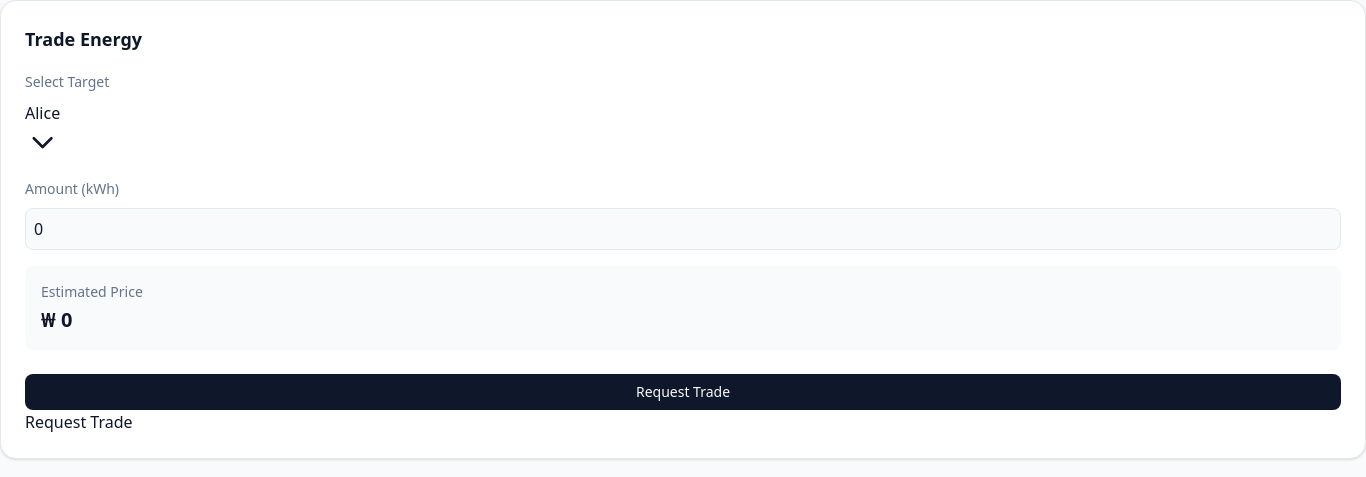
Test: TradeForm › updates the selected target from the dropdown
What coordinates should you click on to do the following:
click the button with aria-label "Select Target"
I would click on:
 (43, 131)
Its box is [25, 101, 60, 160].
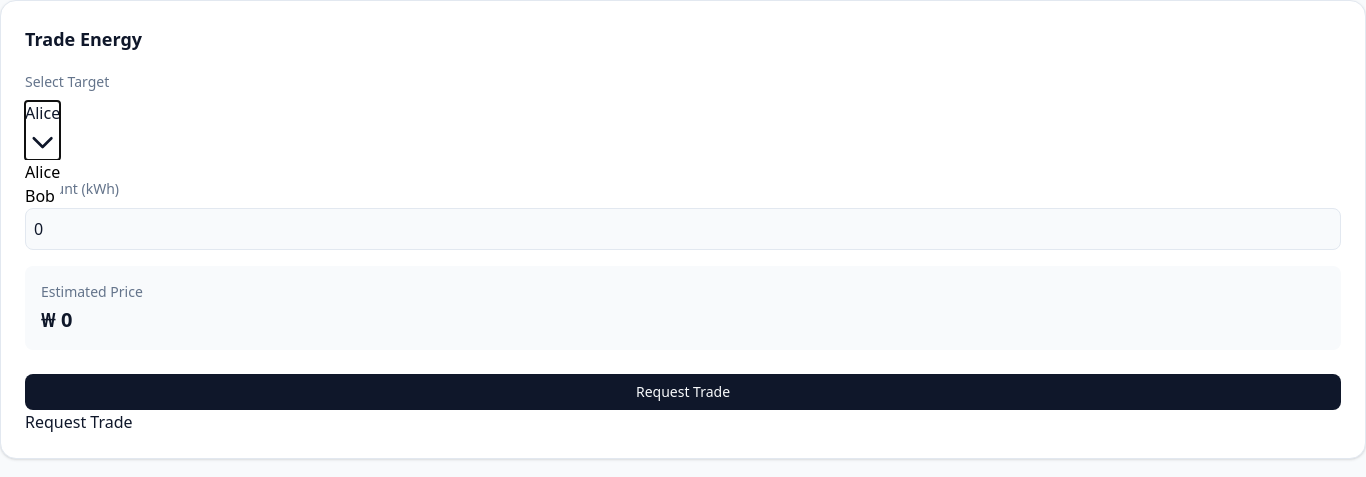
What coordinates should you click on to do the following:
click the menu item "Bob"
I would click on:
 (40, 196)
Its box is [25, 184, 55, 208].
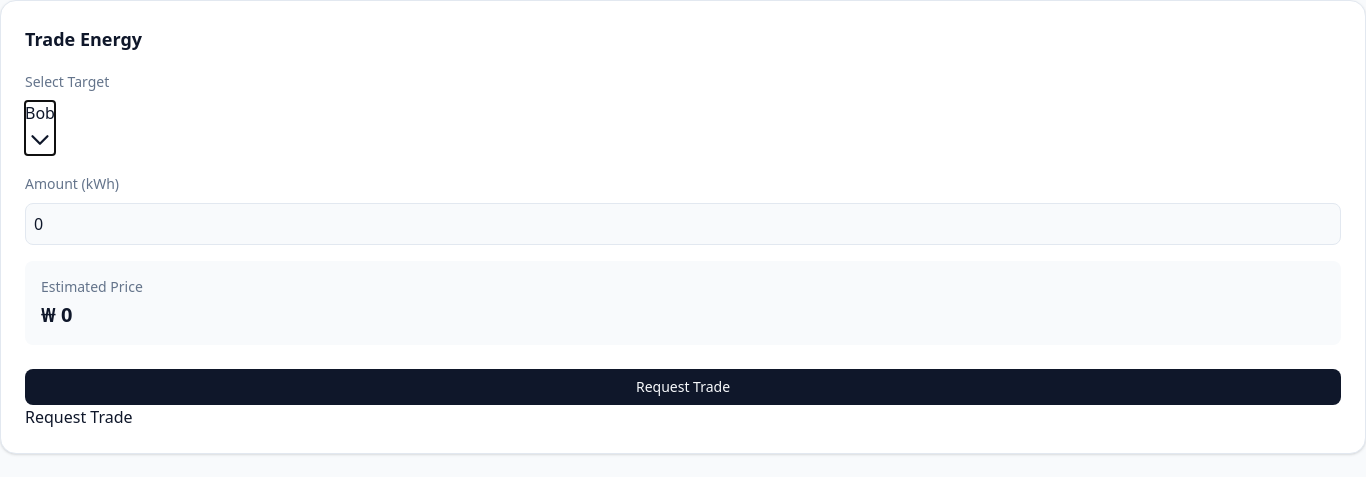
Now the button with aria-label "Select Target" reads "Bob", box [25, 101, 55, 155]
